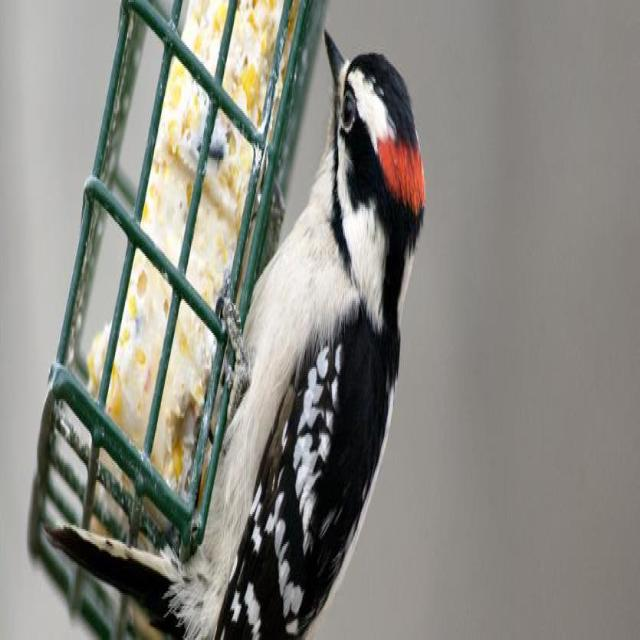Woodpecker: (136, 30, 423, 640)
